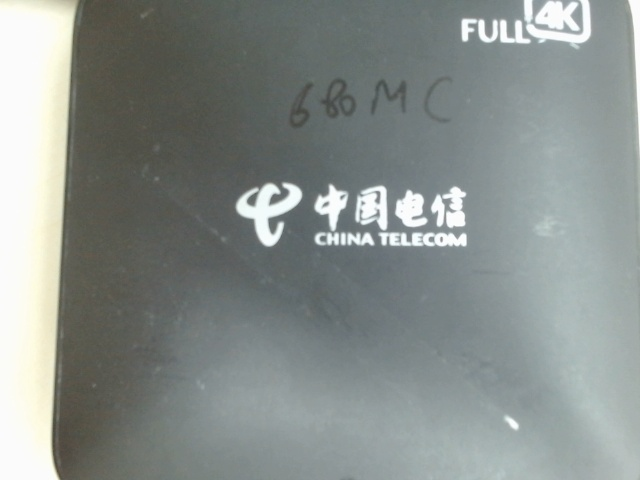AB_ChinaTelecom: (222, 164, 479, 261)
